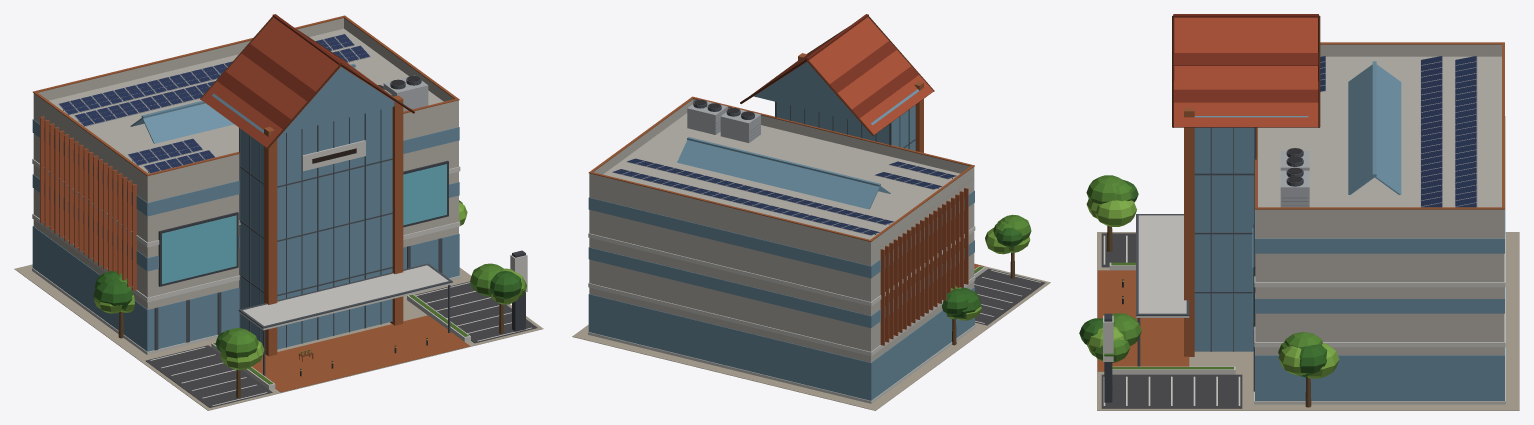
The model's file is shop_5.glb.
The picture shows the model from 3 angles, left to right: view 1: azimuth 30°, elevation 25°; view 2: azimuth 150°, elevation 25°; view 3: azimuth 270°, elevation 25°; orthographic projection. The views are drawn at different scales.
Visible parts, largest first — view 1: body, windows; view 2: body; view 3: body.
Boxes of the visible parts, bbox=[...] form: body: bbox=[14, 14, 543, 410]; windows: bbox=[161, 164, 446, 370]; body: bbox=[572, 14, 1050, 410]; body: bbox=[1079, 14, 1519, 410].
Size of the model in its own units: 34.82 by 25.59 by 33.25.
